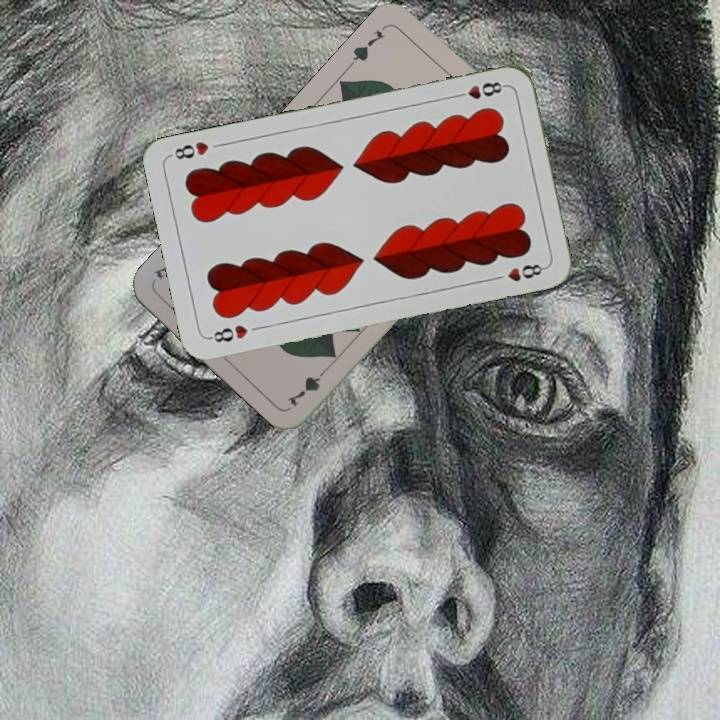G7: (282, 362, 332, 410), (345, 26, 388, 70)
H8: (450, 77, 509, 102), (205, 320, 251, 345)
